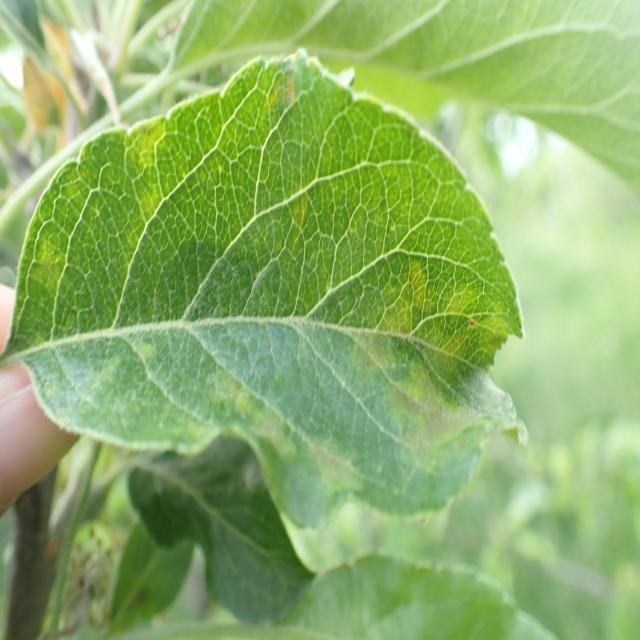scab: (38, 68, 512, 497)
